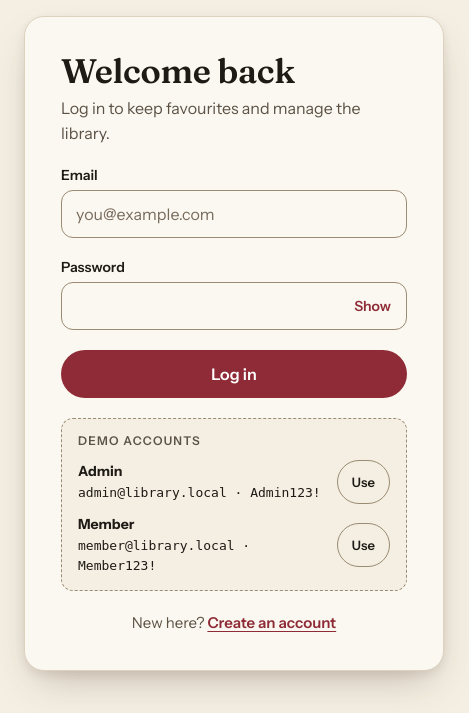
Test: LoginPage › shows and hides the password with the toggle
In the password field labelled "Password": (234, 306) [61,282,407,330], type "secret-pw"
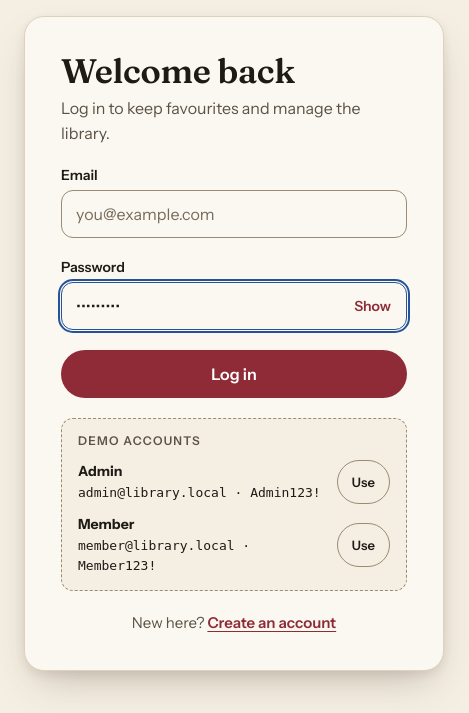
Click the button with aria-label "Show password": (373, 306) [342,284,403,328]
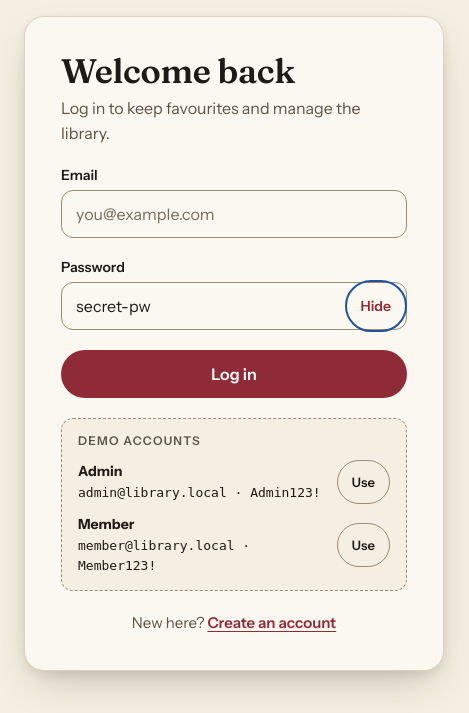
Now the field labelled "Password" shows its text, box [61,282,407,330]
Click the button with aria-label "Hide password": (376, 306) [349,284,403,328]
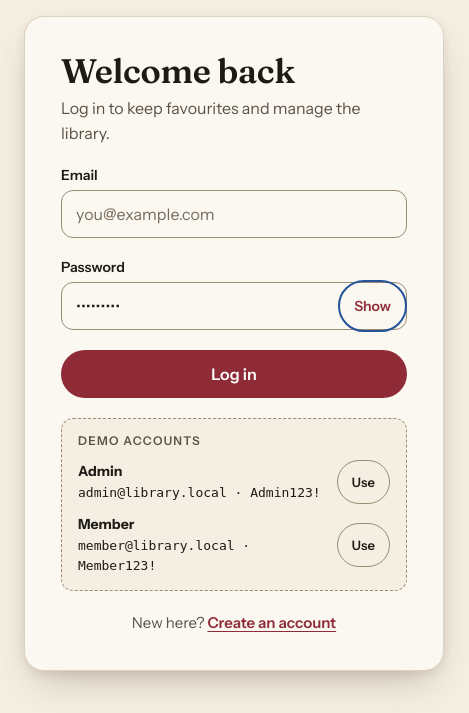
Now the password field labelled "Password" hides its text, box [61,282,407,330]
